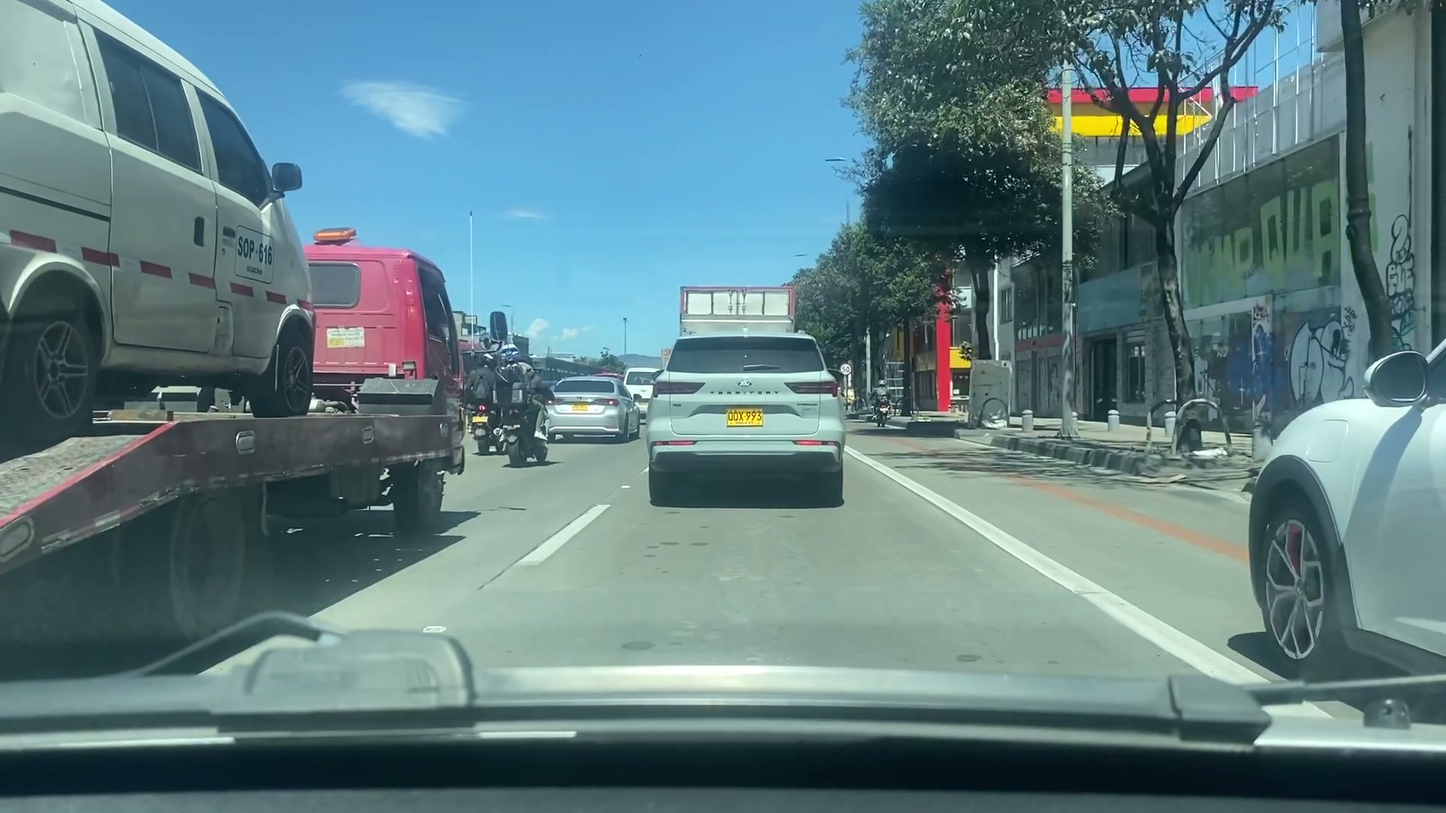bus: (0, 0, 314, 420), (621, 361, 664, 420)
car: (1237, 337, 1445, 713), (640, 328, 847, 508), (537, 372, 647, 444)
motorcycle: (501, 408, 556, 463), (466, 403, 501, 454), (874, 400, 892, 431)
person: (500, 342, 550, 444), (462, 347, 501, 427), (869, 377, 895, 423)
truck: (0, 226, 473, 615)
